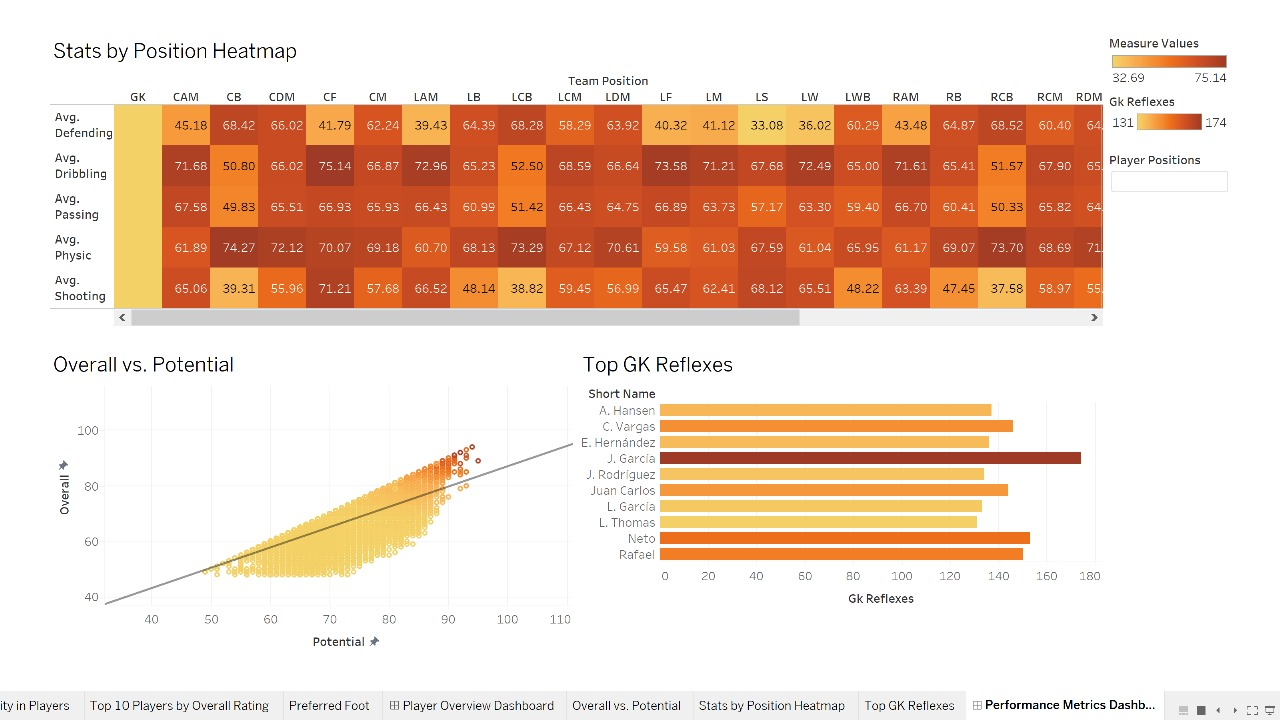

Layout of this report page (visuals, bound fields, positions):
{"tool":"tableau","page":{"name":"Performance Metrics Dashboard","canvas":[1500,800],"ordinal":1},"visuals":[{"type":"worksheet","title":"Stats by Position Heatmap","mark":"Automatic","cols":["team_position"],"box":[8,8,1324,392]},{"type":"legend","title":"Stats by Position Heatmap","param":"[federated.0kvdf3o0mcrkr81ehyua61jd9mji].[Multiple Values]","box":[1332,8,160,73]},{"type":"legend","title":"Top GK Reflexes","param":"[federated.0kvdf3o0mcrkr81ehyua61jd9mji].[sum:gk_reflexes:qk]","box":[1332,81,160,73]},{"type":"filter","title":"Overall vs. Potential","param":"[federated.0kvdf3o0mcrkr81ehyua61jd9mji].[none:player_positions:nk]","box":[1332,154,160,61]},{"type":"worksheet","title":"Overall vs. Potential","mark":"Shape","rows":["overall"],"cols":["potential"],"box":[8,400,662,392]},{"type":"worksheet","title":"Top GK Reflexes","mark":"Automatic","rows":["short_name"],"cols":["gk_reflexes"],"box":[670,400,662,392]}]}

Visuals, with their boxes on the page's 1500x800 design canvas (x1, y1, x2, y2). These are canvas units, not pixel positions in the 1280x720 screenshot, which may show the page scaled, cropped or inside an application window:
"Stats by Position Heatmap" worksheet: (8, 8, 1332, 400)
"Stats by Position Heatmap" legend: (1332, 8, 1492, 81)
"Top GK Reflexes" legend: (1332, 81, 1492, 154)
"Overall vs. Potential" filter: (1332, 154, 1492, 215)
"Overall vs. Potential" worksheet (Shape marks): (8, 400, 670, 792)
"Top GK Reflexes" worksheet: (670, 400, 1332, 792)
